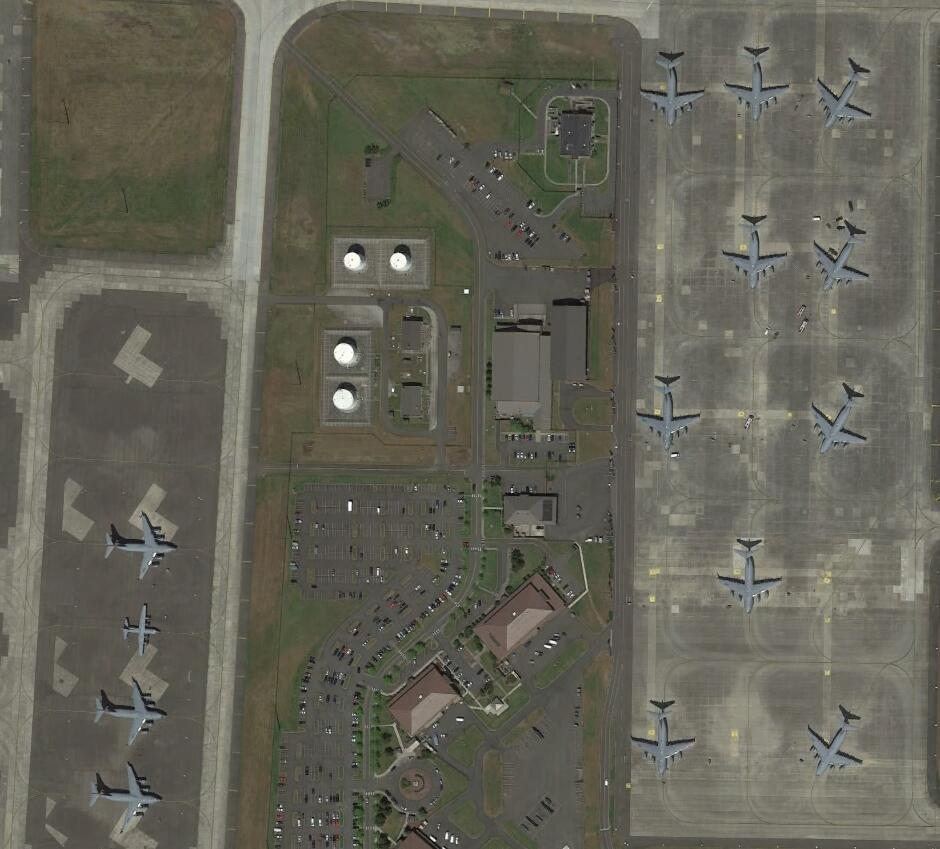A2: (124, 602, 162, 659)
A3: (718, 214, 792, 290), (629, 699, 697, 781), (713, 538, 785, 615), (635, 375, 704, 453), (95, 677, 168, 749), (92, 762, 164, 834), (106, 510, 177, 579), (640, 57, 707, 130), (725, 52, 792, 123), (810, 385, 872, 455), (806, 708, 866, 780), (812, 229, 873, 294), (815, 69, 878, 130)
